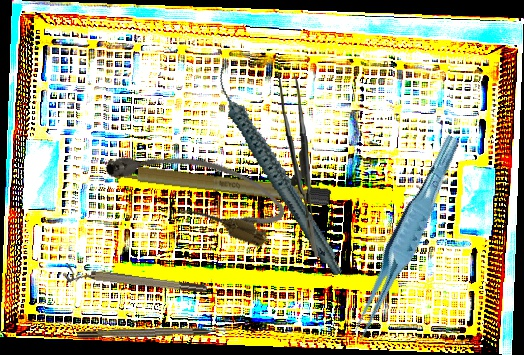Cannula: (98, 125, 293, 252)
Fixation Ring: (62, 263, 208, 301)
Handpiece: (212, 52, 344, 292)
Hook Surgical: (76, 327, 234, 338)
Scalpel Handle: (101, 160, 334, 207)
Tissue Forceps: (334, 133, 475, 345), (278, 72, 318, 258)
